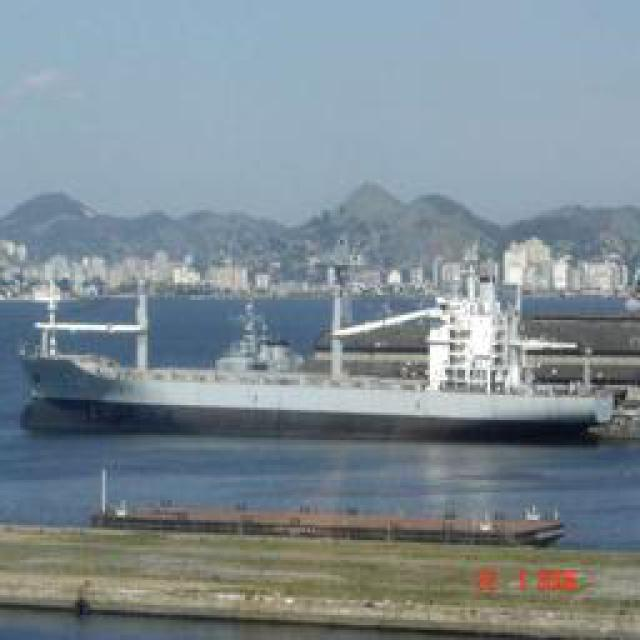Ship: (29, 312, 614, 440)
